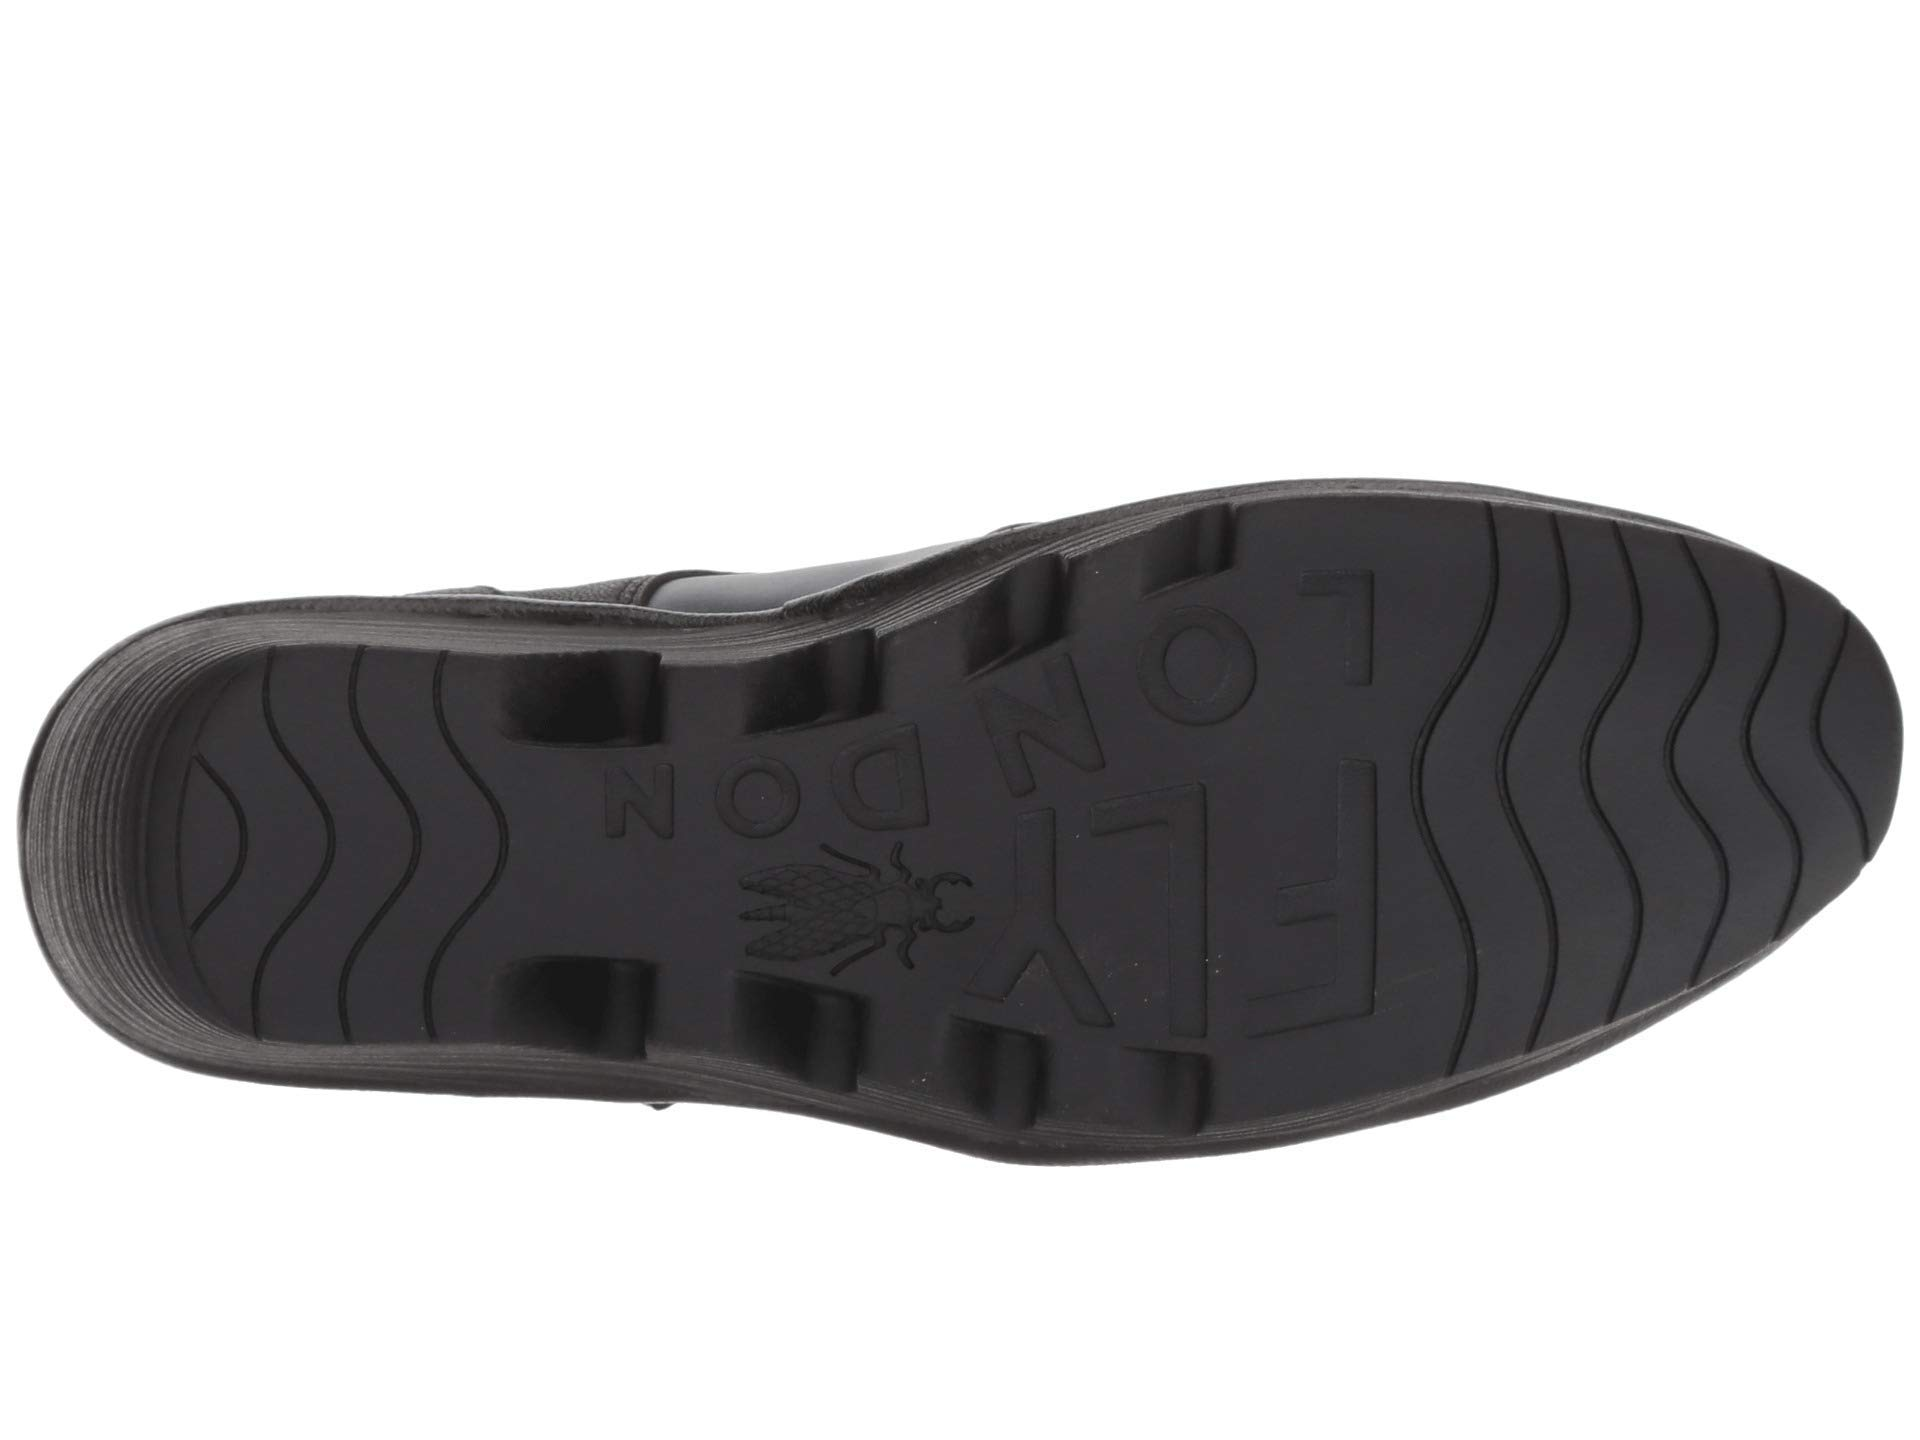chevron: (1420, 545, 1816, 936), (209, 723, 488, 1010)
